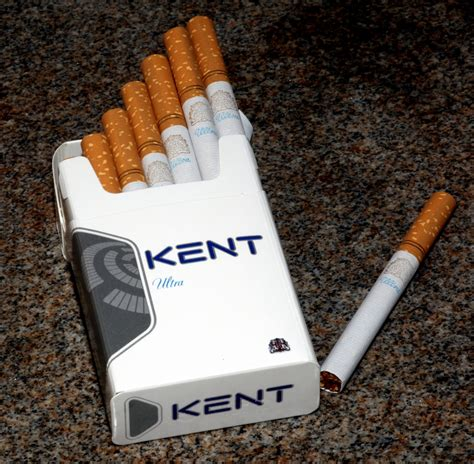cigarette: (50, 126, 320, 447), (318, 193, 456, 396), (162, 24, 223, 182), (141, 53, 204, 181), (184, 14, 244, 136), (121, 79, 176, 188), (101, 106, 150, 194), (80, 134, 120, 194)
